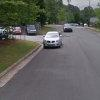Car: (40, 27, 65, 54)
